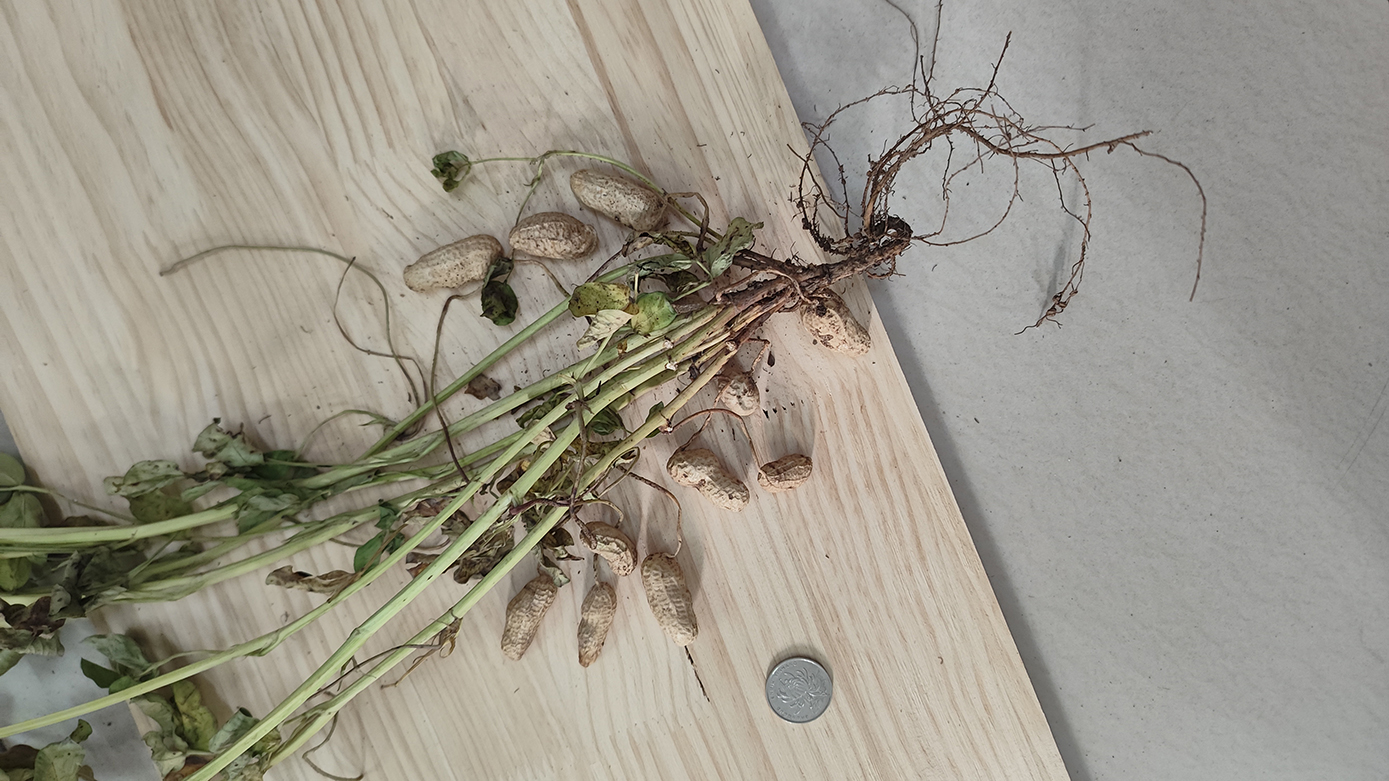h: (568, 168, 666, 230), (640, 550, 699, 648), (403, 235, 505, 291), (669, 446, 751, 512), (501, 572, 557, 662), (800, 292, 871, 358), (510, 211, 599, 258), (576, 582, 618, 668), (580, 522, 638, 576), (757, 453, 813, 491), (717, 369, 761, 416)
